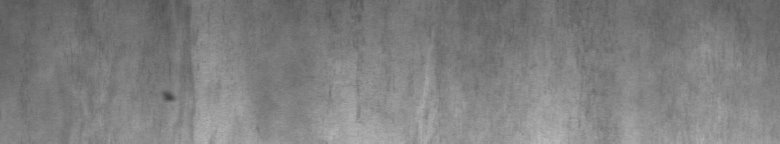fi: (160, 86, 176, 104)
